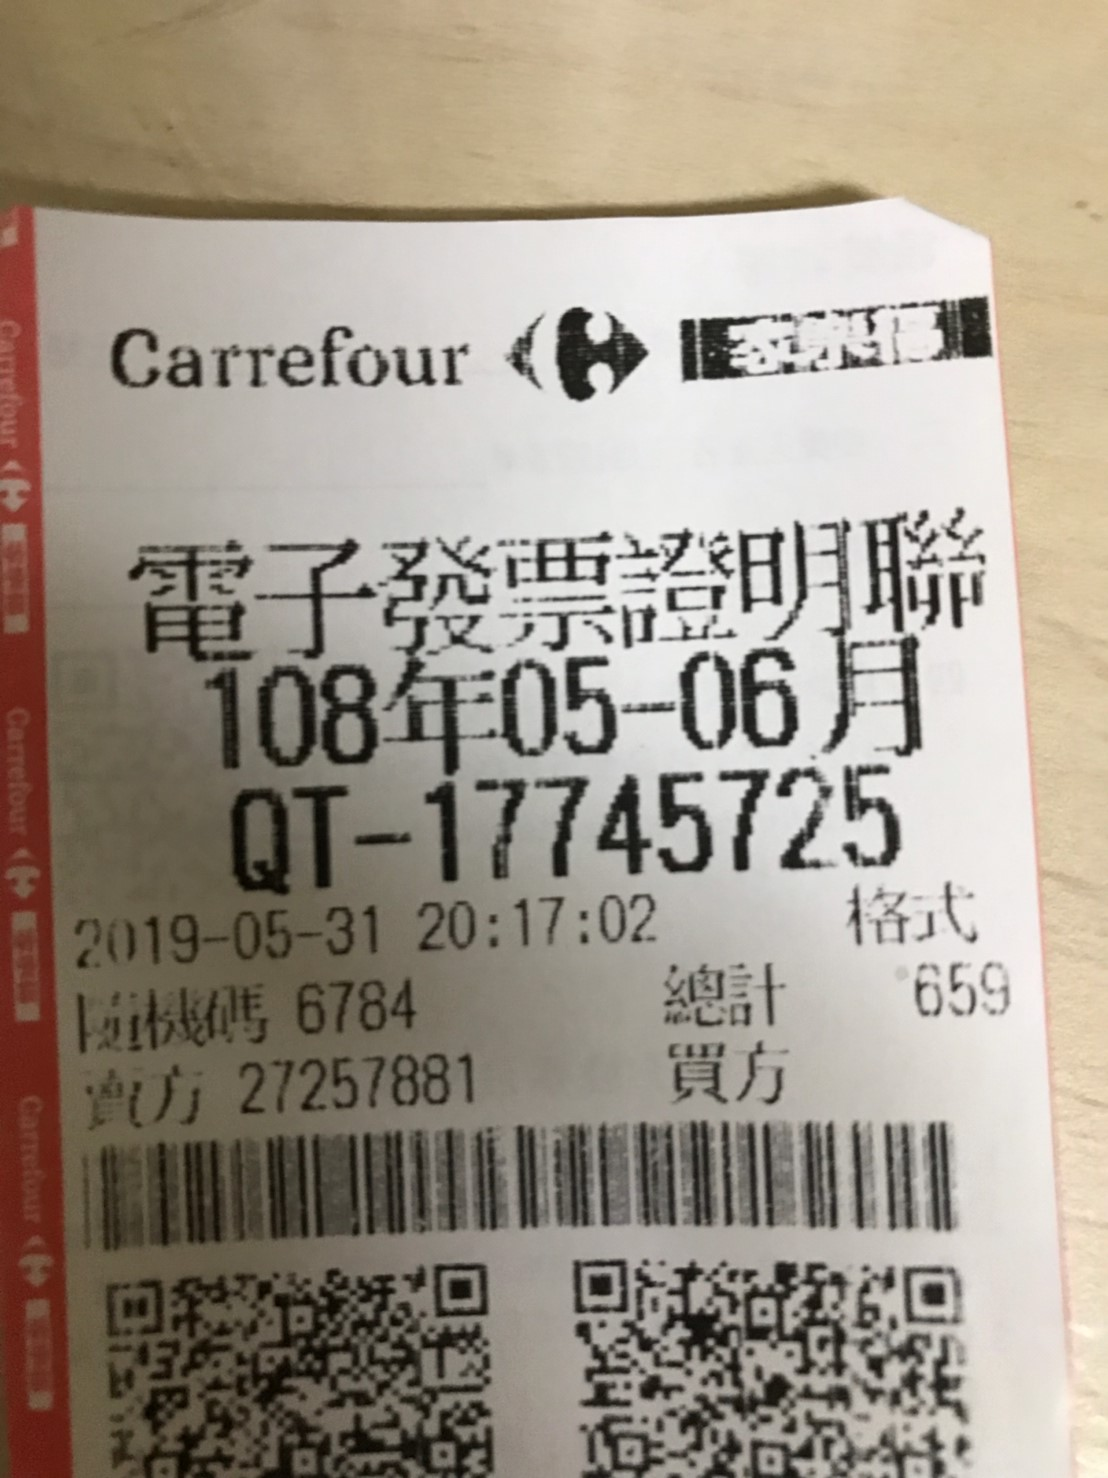Date_New: (201, 637, 928, 770)
Number_New: (422, 766, 905, 881)
